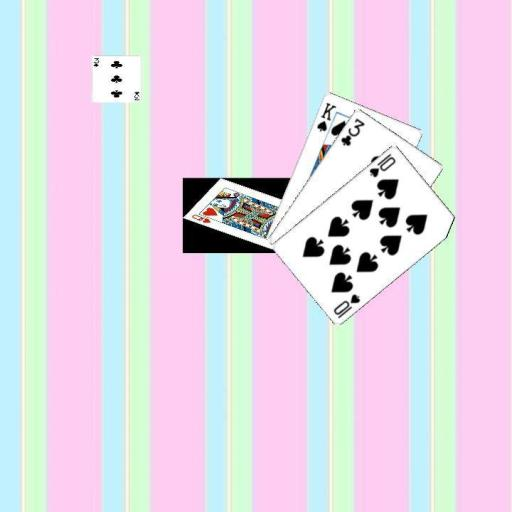card-corner: (337, 115, 366, 147), (366, 150, 398, 179), (330, 290, 362, 319), (314, 99, 338, 133)
